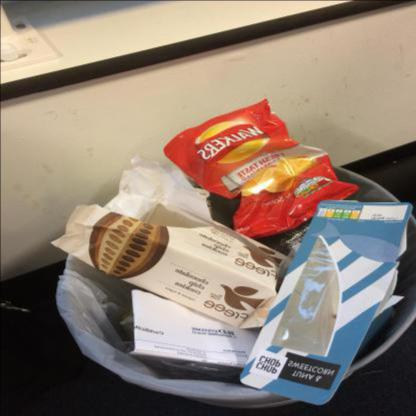Carton: (240, 199, 412, 405), (139, 203, 279, 266)
Paper: (129, 289, 256, 368)
Plastic bag - wrapper: (50, 152, 292, 329), (55, 253, 272, 400), (163, 98, 360, 239), (271, 237, 339, 356)
